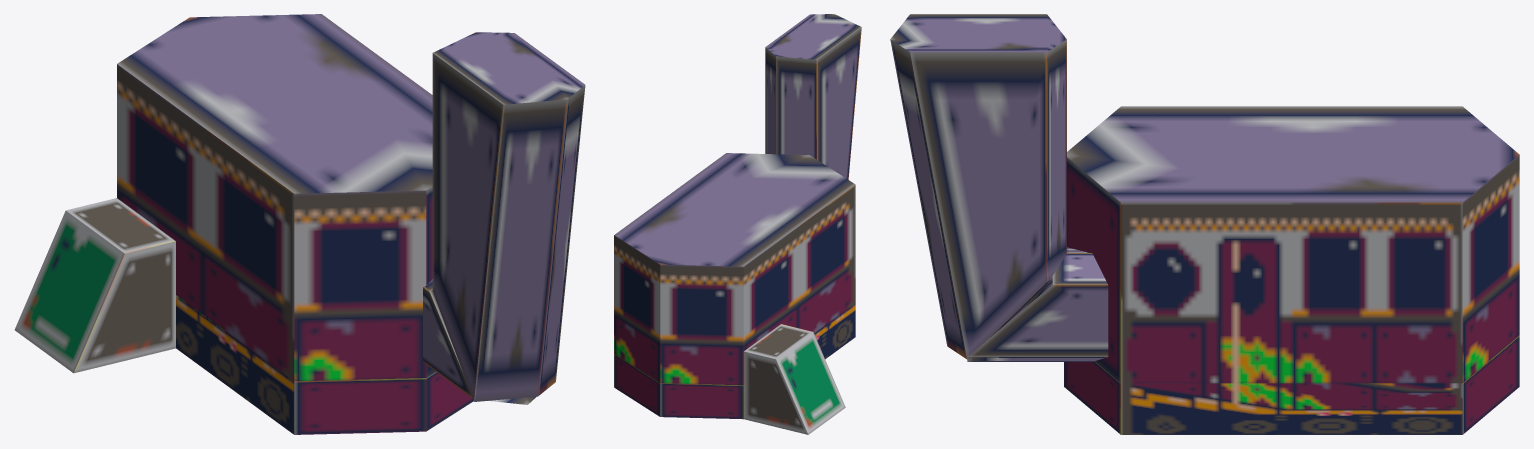
Rendered from train-house.gltf.
3 renders of one model, left to right at view 1: azimuth 30°, elevation 25°; view 2: azimuth 150°, elevation 25°; view 3: azimuth 270°, elevation 25°, orthographic. The views are drawn at different scales.
Bounding box in the file's own units: 3 × 3.6 × 5.53.
Materials: 1 (1 with a texture image).
